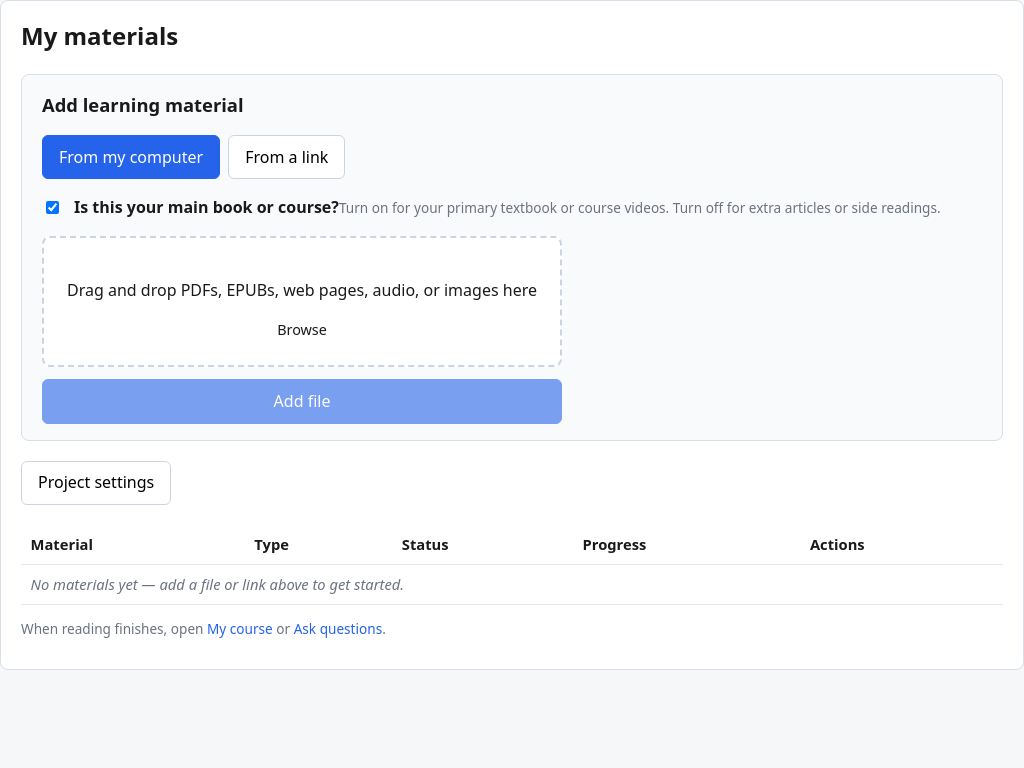
Scenario: CorpusView › shows error banner on 422 ingest
Expected: the heading "My materials" is shown, [21,19,178,52]
Click the tab "From a link": (287,157) [228,135,345,179]
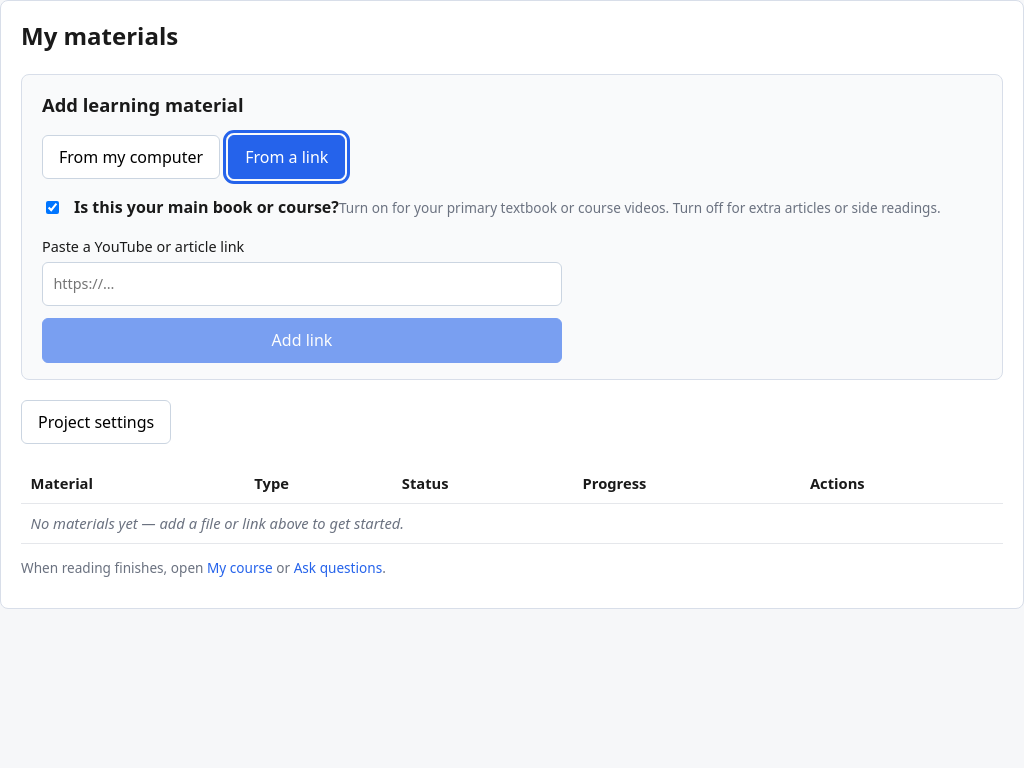
In the field labelled "Paste a YouTube or article link": (302,284) [42,262,562,306], type "/bad"
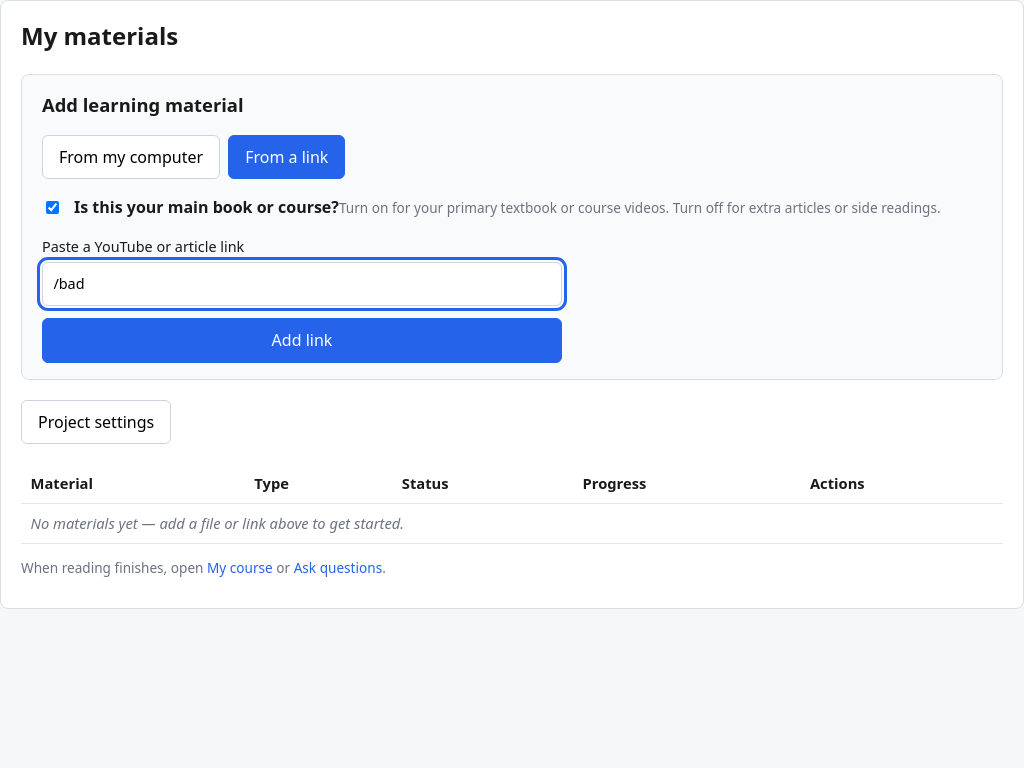
Click the button "Add link": (302,341) [42,318,562,363]
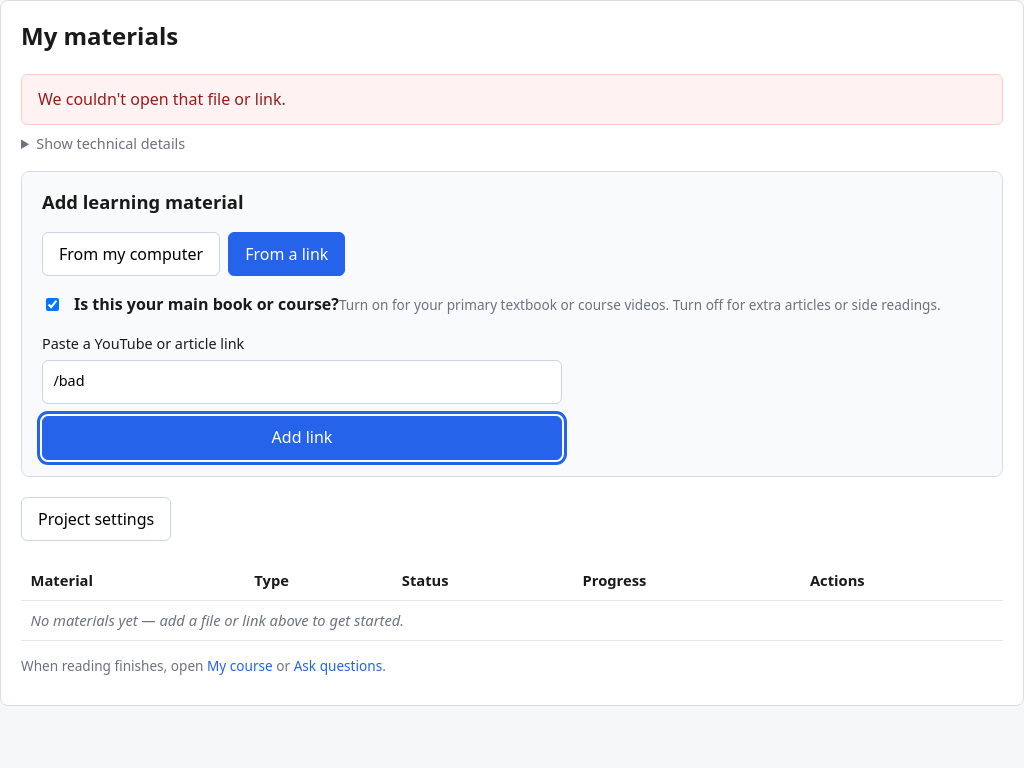
Expected: the text "We couldn't open that file or link." is shown, [21,74,1003,125]
